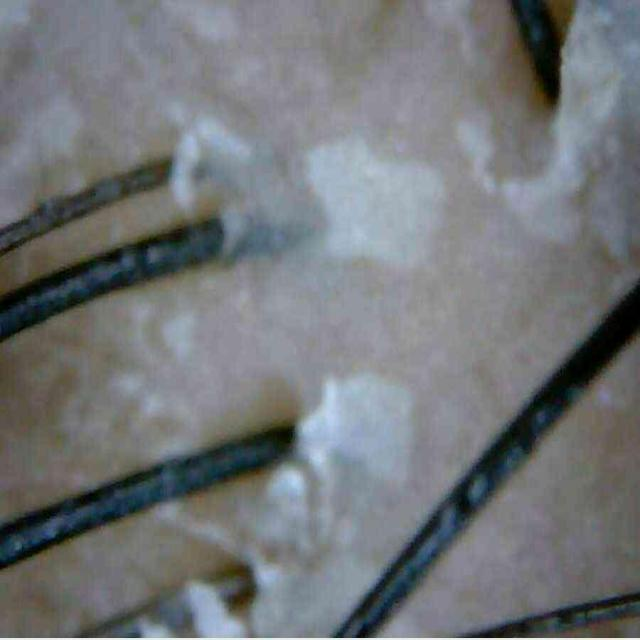d: (501, 2, 640, 259), (308, 138, 445, 265), (299, 374, 414, 485), (185, 582, 246, 638), (170, 121, 201, 211)
